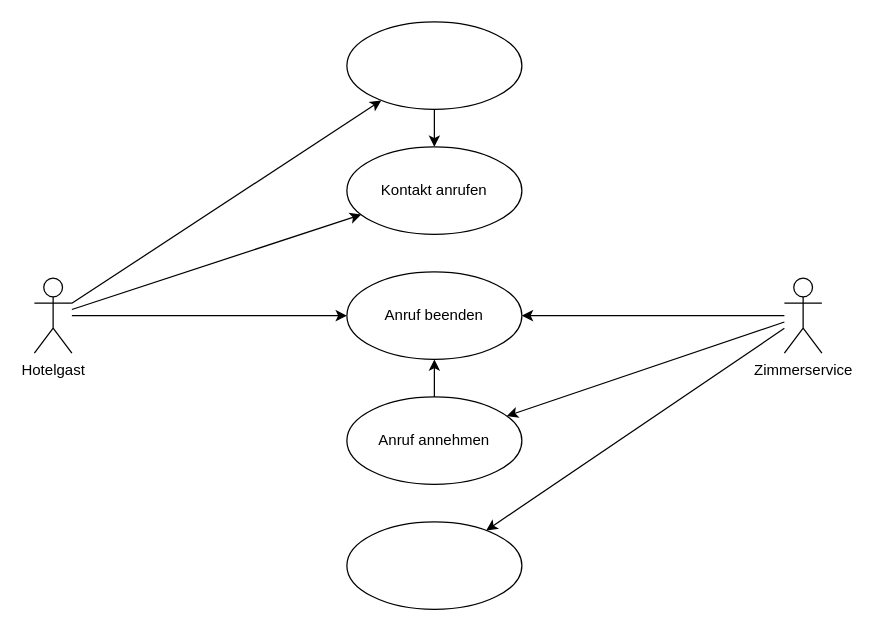
This 874x631 diagram has some shape labels left out. The box of each missing label's shape, as (x1, y1, x2, y2) in pixels:
Anruf ablehnen: (346, 521, 522, 609)
Kontakt suchen und auswählen: (346, 21, 522, 109)
